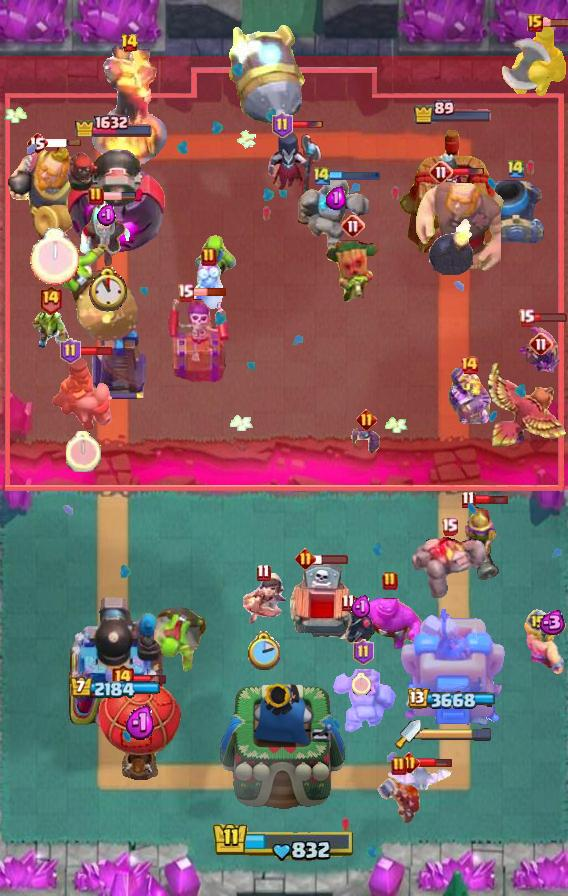archer-evolution: (517, 320, 565, 376)
axe: (500, 37, 568, 91)
bar: (330, 169, 382, 182), (474, 493, 509, 506), (313, 553, 349, 565), (133, 673, 168, 685), (79, 345, 114, 357), (417, 757, 453, 768), (532, 312, 568, 323), (101, 191, 137, 201), (46, 138, 82, 148), (192, 287, 227, 297), (451, 167, 485, 177), (290, 120, 324, 130), (540, 17, 568, 28)
bar-level: (110, 663, 135, 694), (38, 284, 63, 315), (526, 609, 550, 633), (529, 332, 553, 356), (341, 214, 365, 238), (429, 160, 453, 184), (353, 639, 374, 665), (60, 338, 81, 364), (272, 112, 293, 138), (26, 131, 48, 155), (399, 752, 420, 773), (295, 548, 316, 569), (356, 409, 377, 430), (312, 165, 332, 186), (506, 158, 526, 179), (459, 355, 479, 375), (120, 33, 139, 53), (441, 517, 458, 536), (518, 308, 535, 327), (177, 283, 194, 302), (391, 756, 407, 776), (382, 571, 398, 591), (201, 247, 217, 267), (88, 186, 104, 206), (527, 14, 543, 32), (341, 593, 356, 612), (256, 563, 271, 582), (461, 490, 476, 509)
bat: (350, 424, 382, 454)
bat-evolution: (385, 765, 457, 793)
bomb: (428, 216, 474, 275)
bomber: (192, 259, 226, 311)
cannoneer-tower: (65, 593, 163, 731), (62, 138, 166, 256)
clock: (30, 228, 79, 285), (86, 267, 129, 312), (66, 431, 101, 472), (246, 631, 280, 670), (352, 673, 371, 695)
dagger-duchess-tower: (401, 601, 505, 731)
dagger-duchess-tower-bar: (421, 727, 493, 741)
dart-goblin: (324, 240, 382, 306)
elite-barbarian: (524, 618, 568, 674)
elixir: (125, 705, 157, 741), (536, 610, 566, 635), (351, 595, 372, 619), (326, 186, 346, 210), (97, 204, 117, 226)
elixir-golem-mid: (356, 595, 424, 651)
goblin: (193, 235, 237, 277), (30, 310, 70, 350)
goblin-ball: (151, 604, 209, 676)
golemite: (298, 179, 374, 257), (412, 536, 486, 598), (330, 669, 396, 735)
ice-wizard: (76, 198, 138, 270)
king-tower: (220, 678, 349, 826)
king-tower-bar: (212, 821, 356, 863)
knight-evolution: (447, 364, 492, 427)
mini-pekka: (342, 599, 380, 649)
mortar: (486, 179, 546, 243)
musketeer: (459, 496, 501, 584)
night-witch: (266, 130, 324, 200)
princess: (238, 570, 288, 626)
queen-tower: (398, 128, 508, 256)
ram-rider: (50, 356, 116, 432), (510, 22, 568, 98)
tower-bar: (69, 677, 160, 700), (408, 688, 498, 711), (74, 112, 154, 137), (413, 100, 493, 125)
valkyrie: (376, 775, 422, 825)
